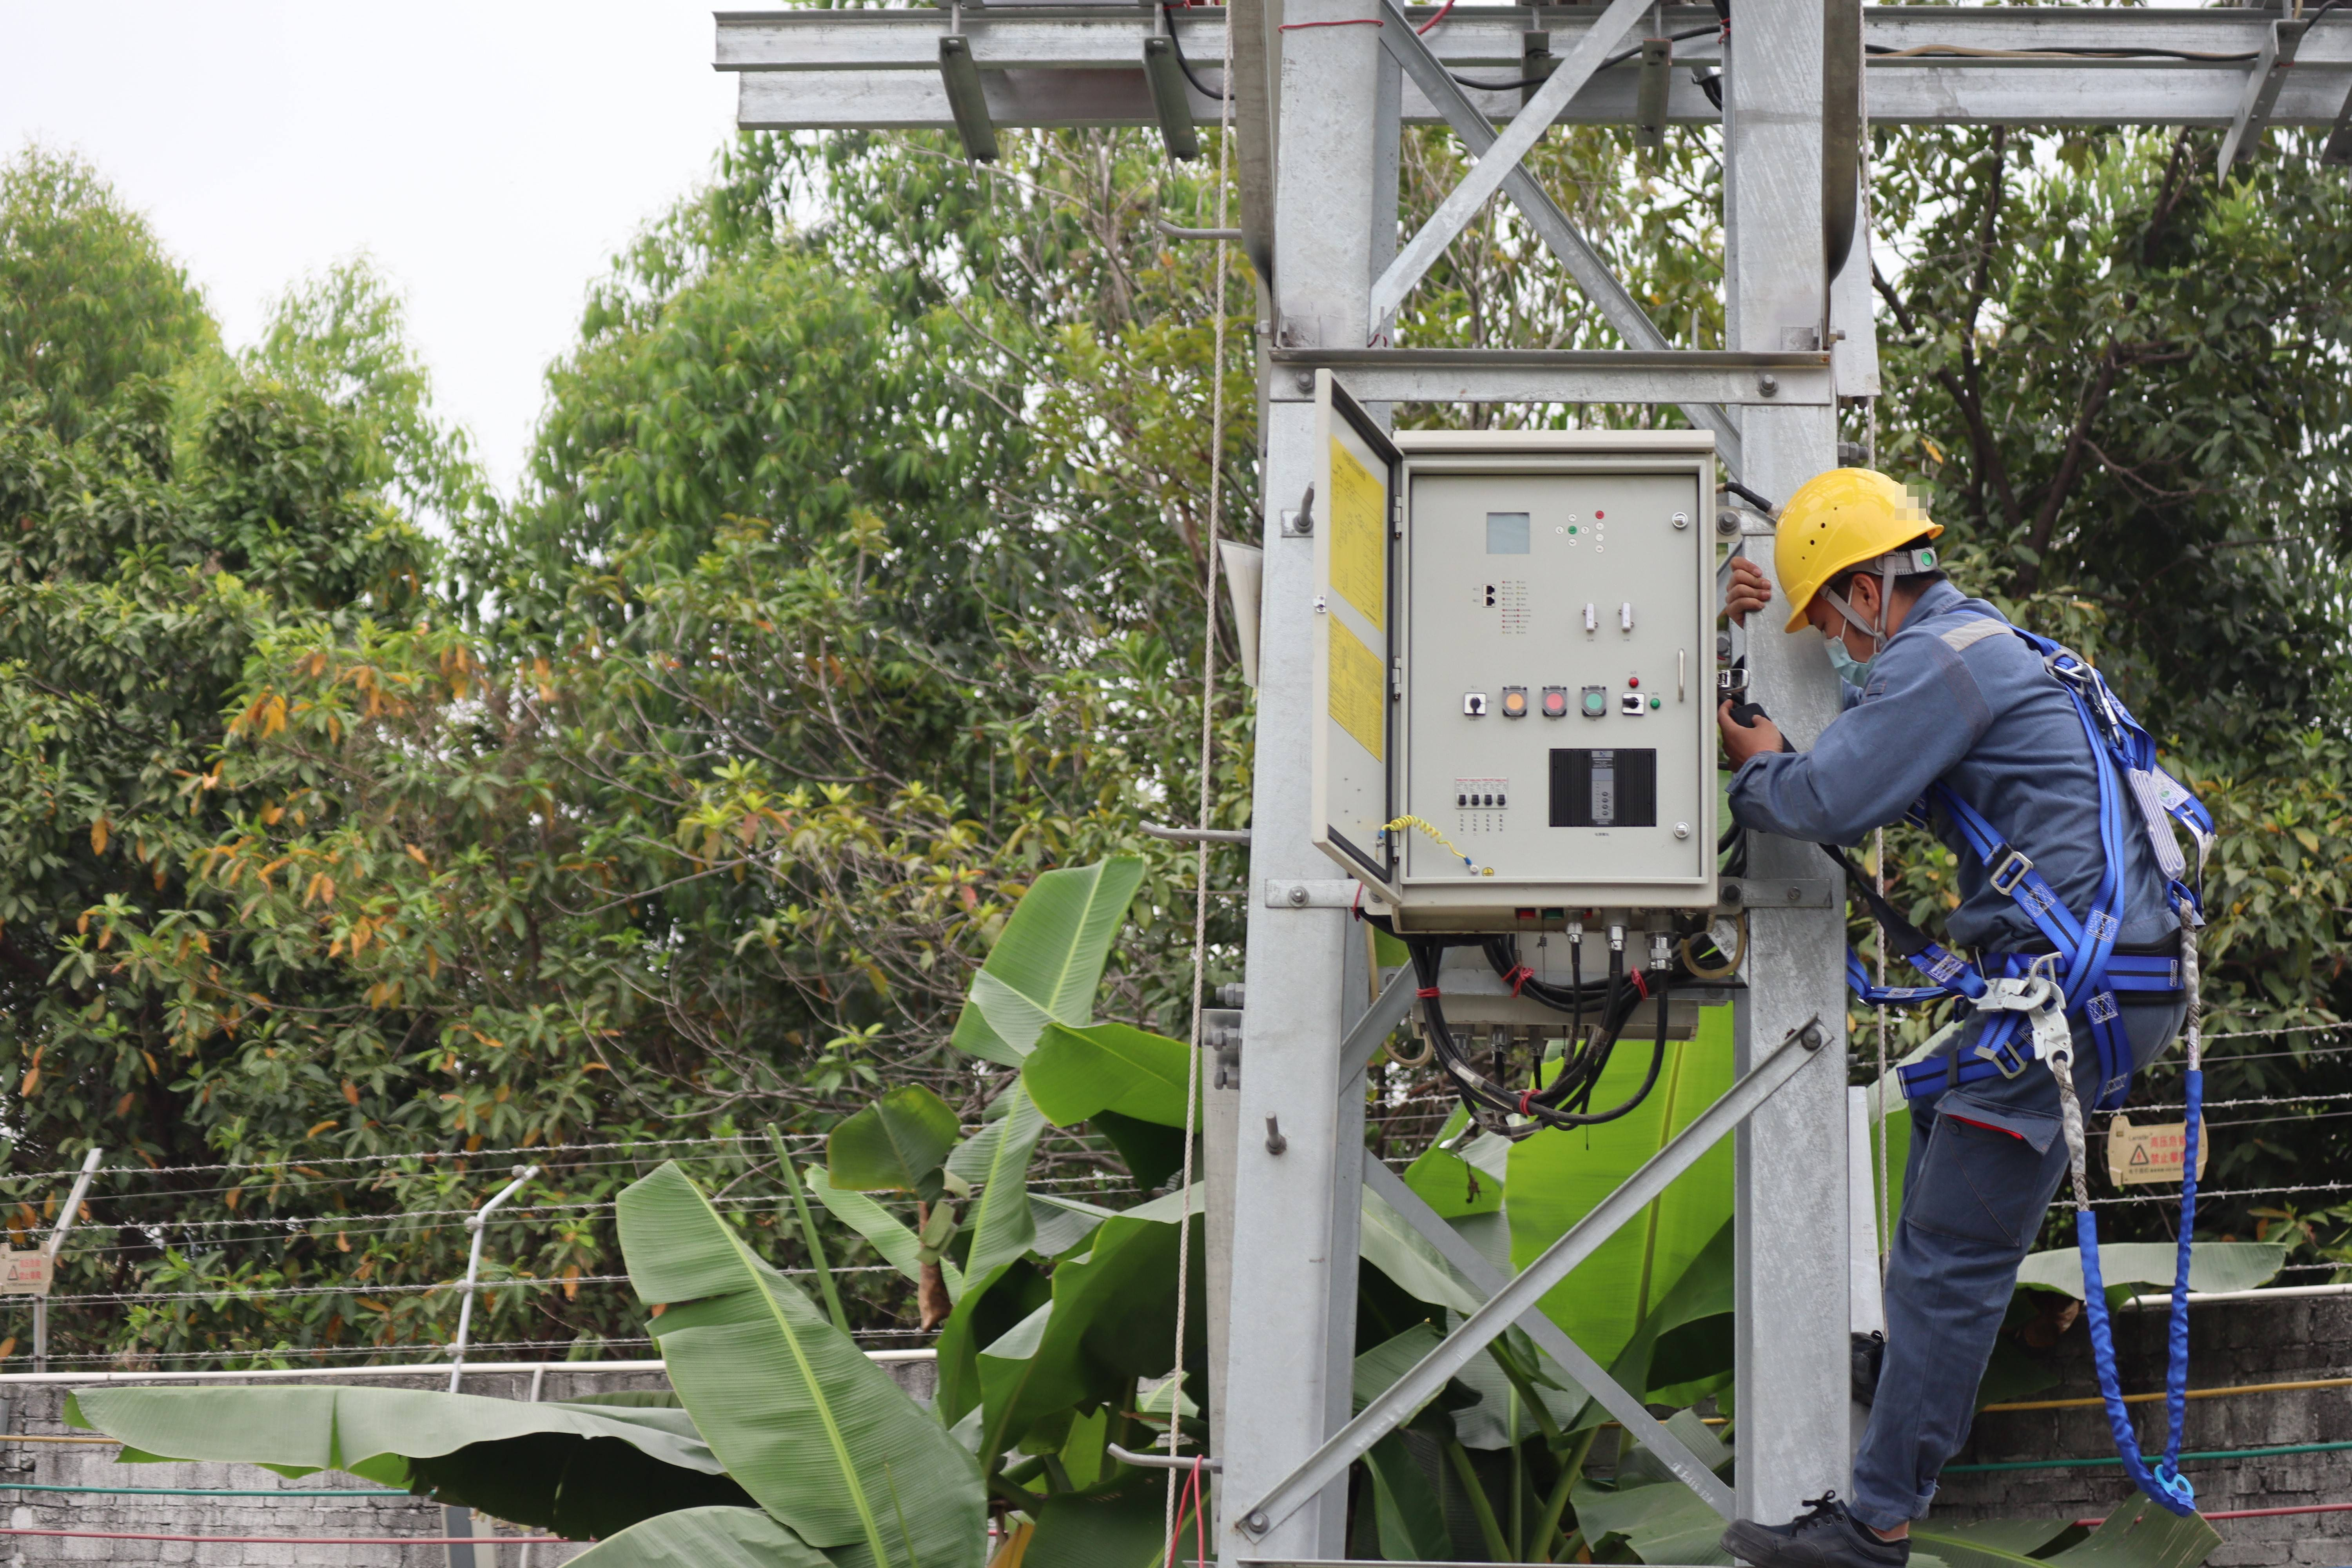downsuit: (1862, 984, 2203, 1519)
upsuit: (1738, 577, 2205, 976)
